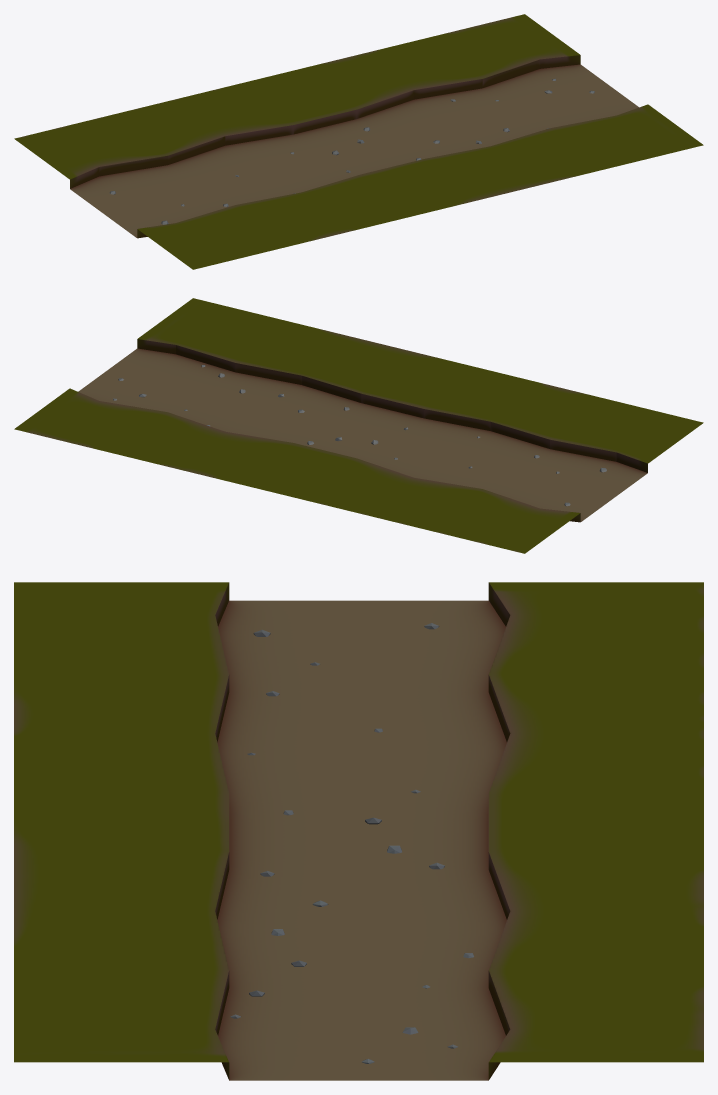
Rendered from yerO1.fbx.
The picture shows the model from 3 angles, top to bottom: view 1: azimuth 30°, elevation 25°; view 2: azimuth 150°, elevation 25°; view 3: azimuth 270°, elevation 25°; orthographic projection. The views are drawn at different scales.
Parts seen in each view (by area): view 1: Plane.001; view 2: Plane.001; view 3: Plane.001.
Boxes of the visible parts, x1,y1,x2,y2 form: Plane.001: (14,14,703,269); Plane.001: (14,298,703,553); Plane.001: (14,582,703,1080).
Bounding box in the file's own units: 2197 × 58.81 × 1335.
1 material, 1 textured.
